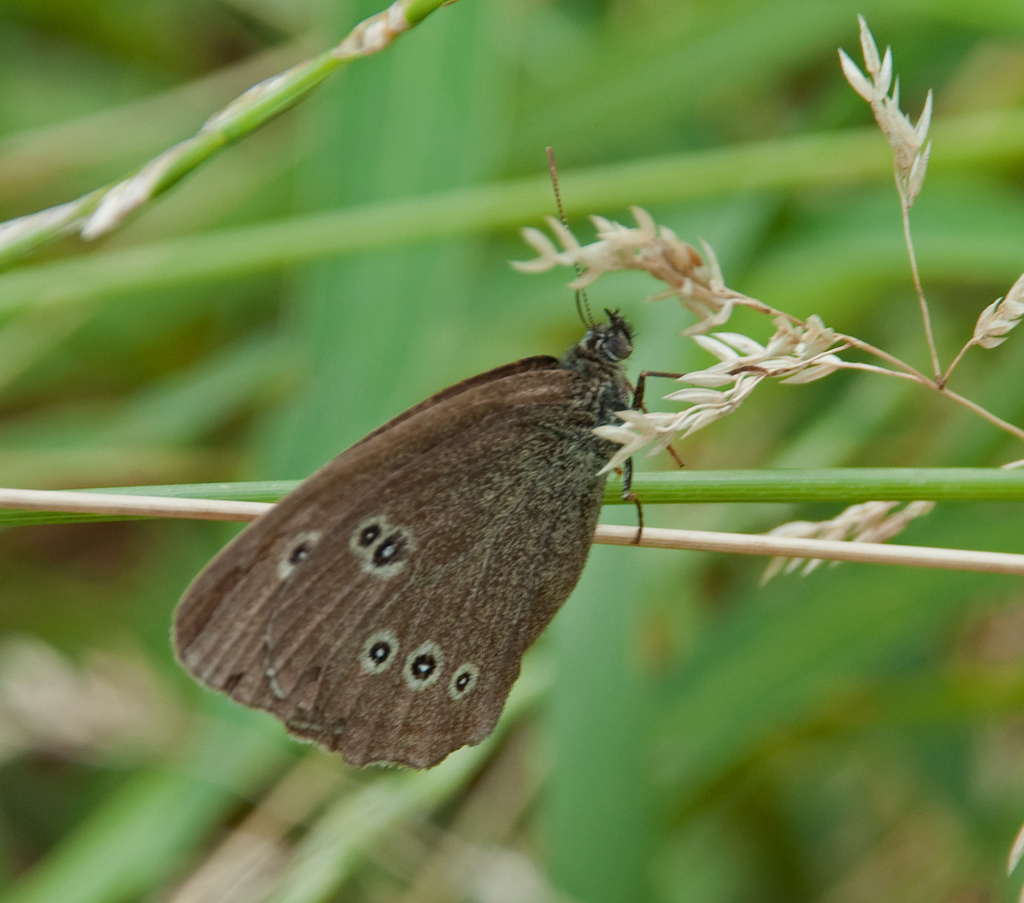Butterfly: (157, 329, 684, 779)
